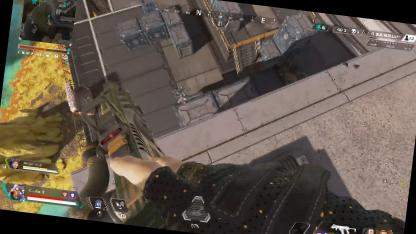Target: (170, 86, 187, 104)
